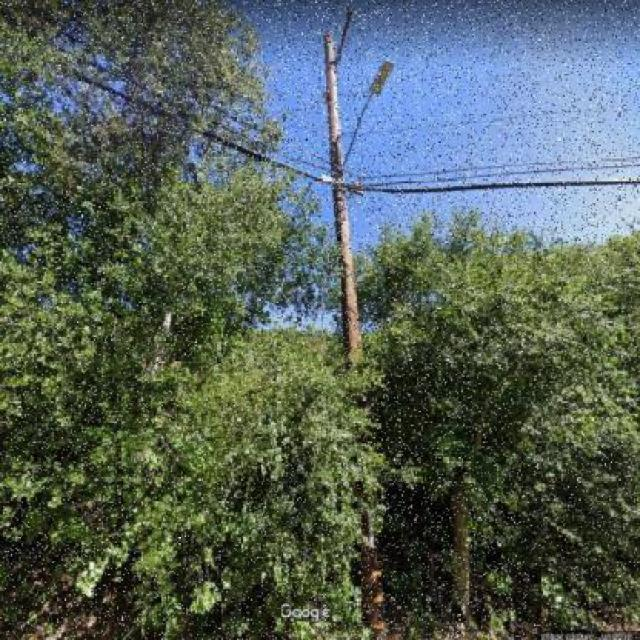pole: (302, 12, 412, 636)
